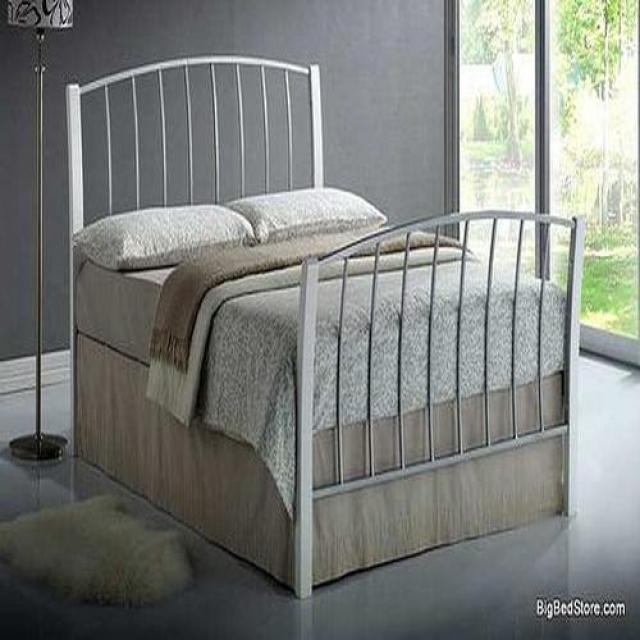bed: (64, 56, 585, 600)
